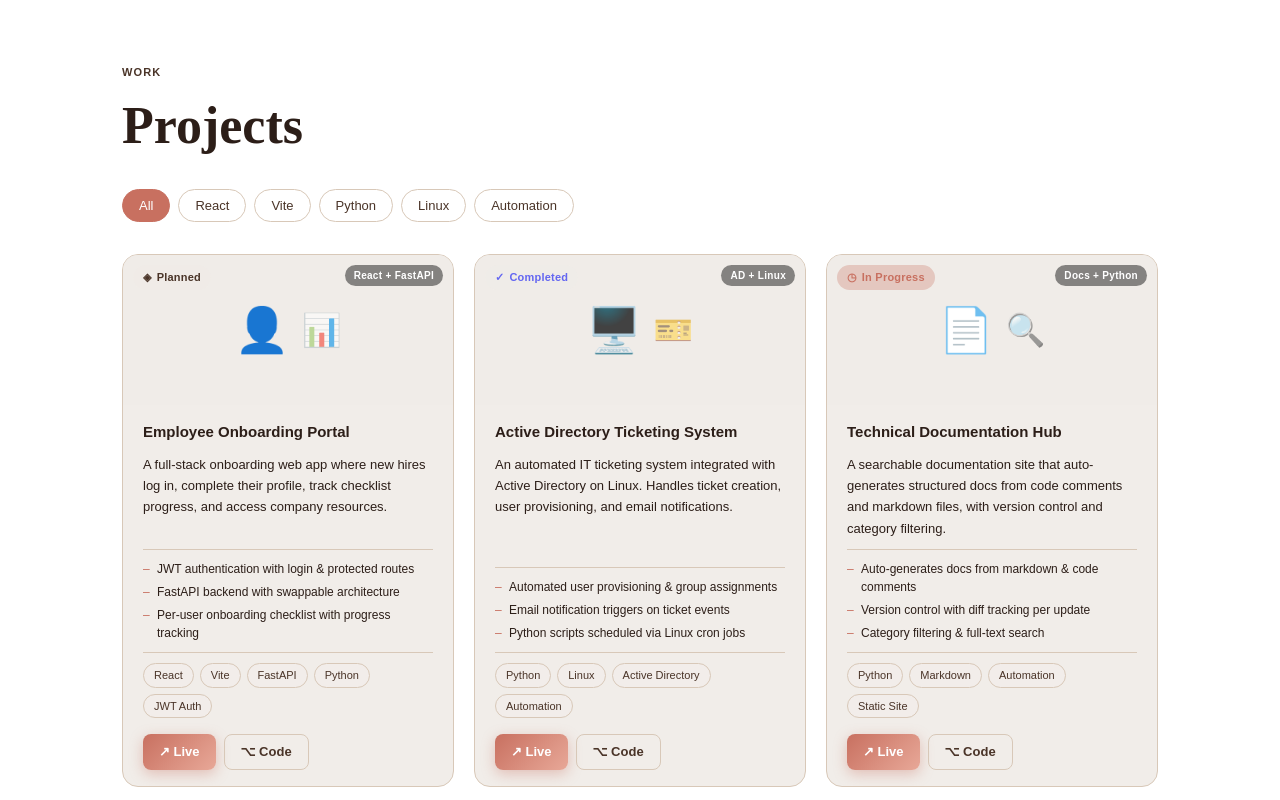
Test: Projects — filtering › shows only Linux projects when Linux filter is active
The width and height of the screenshot is (1280, 800).
Click the button "Linux" at [434, 205], box [401,188,466,222]
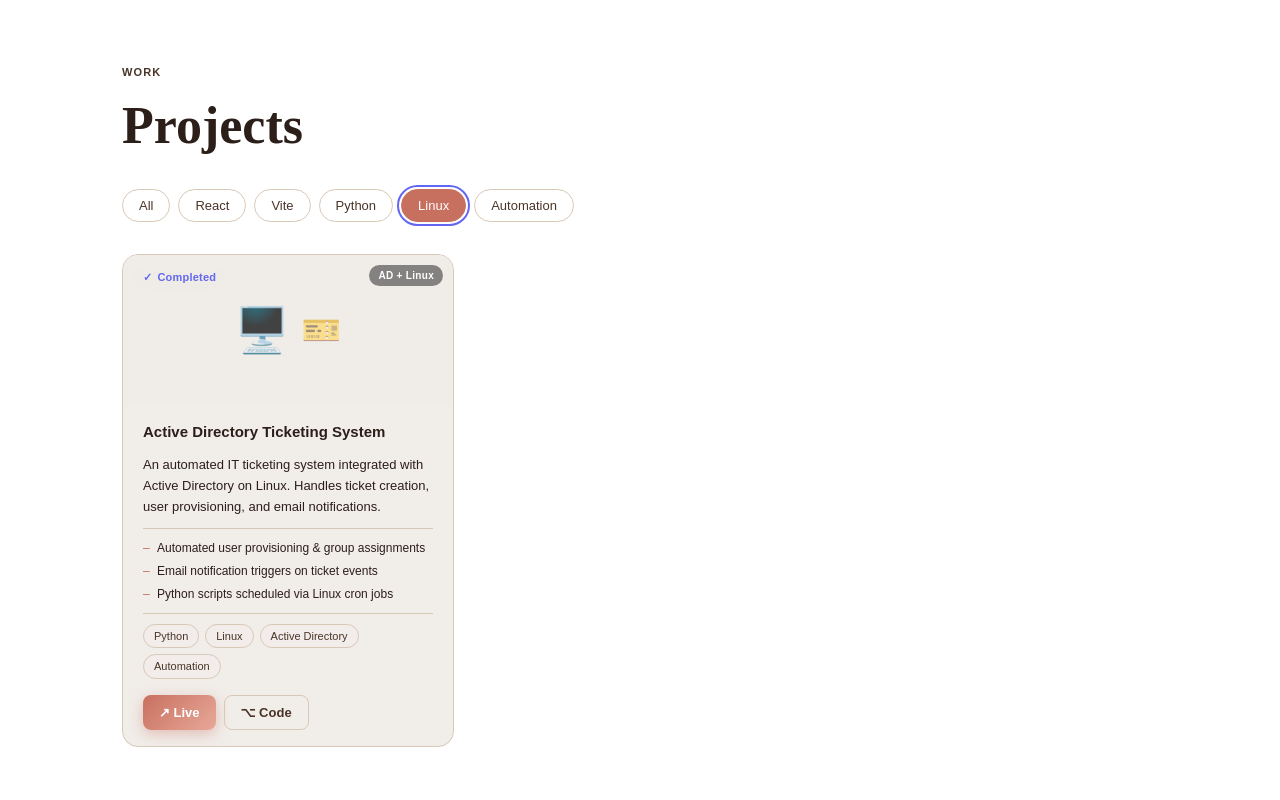
Expected: the element "Active Directory" is shown, [122,254,454,747]
Now the heading "Employee Onboarding" is gone
Now the heading "Technical Documentation" is gone
